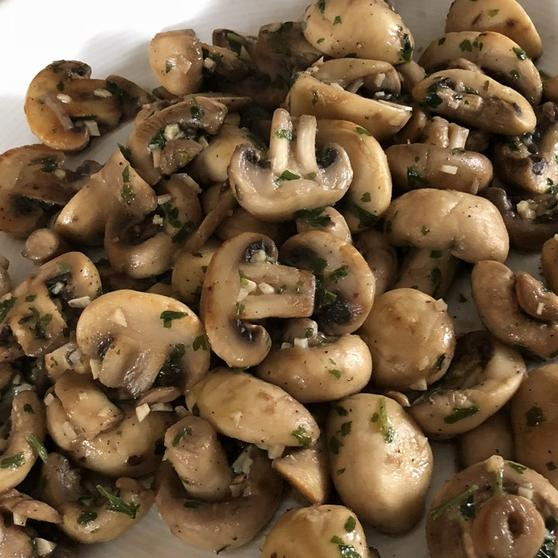champignon: (312, 381, 439, 537), (386, 182, 514, 272), (290, 2, 415, 66)
